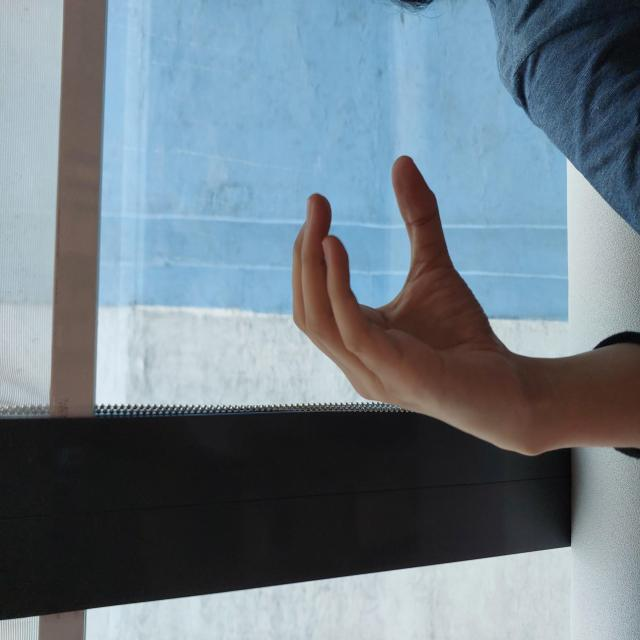C: (206, 292, 485, 510)
